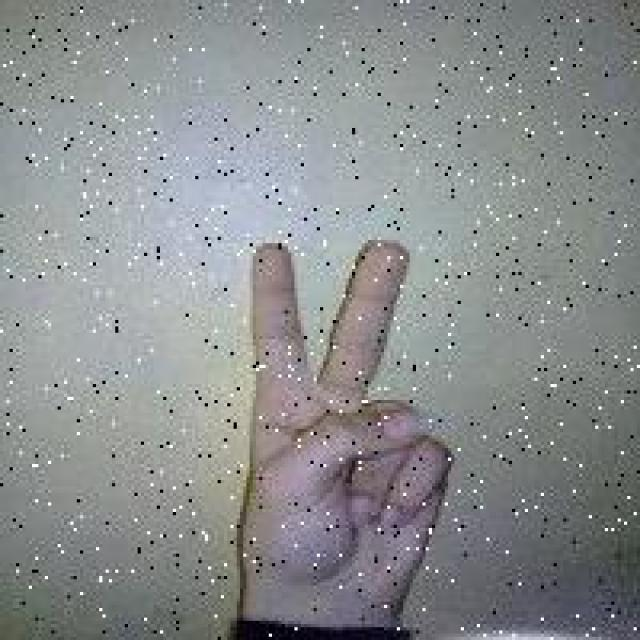V: (216, 229, 469, 619)
